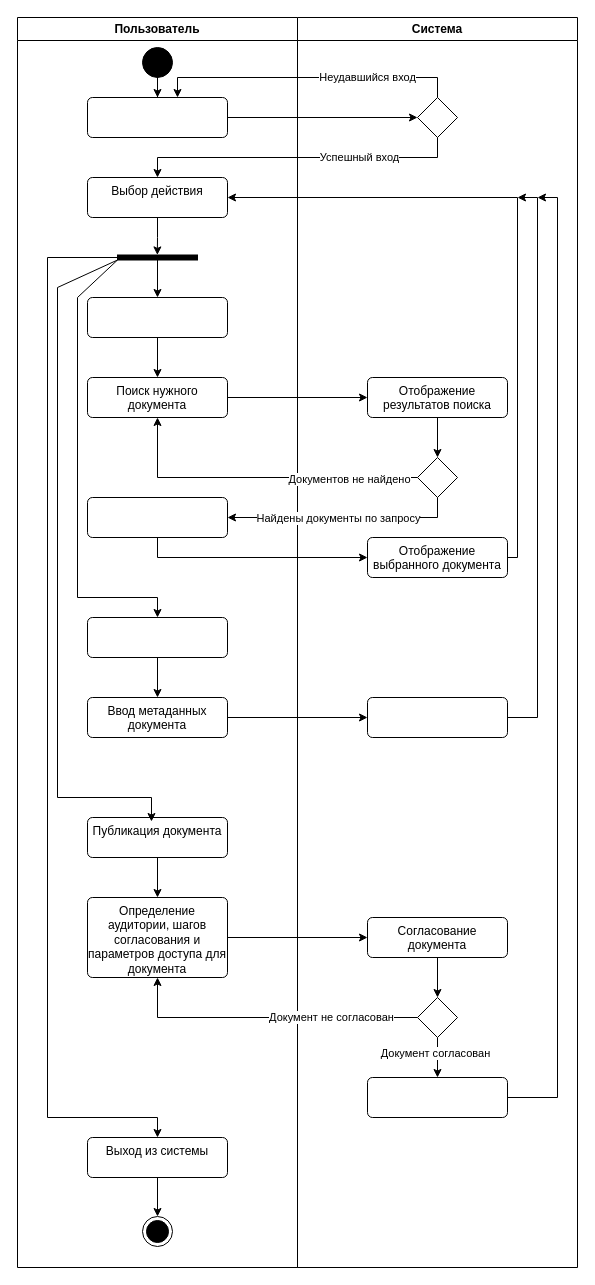
Image size: 595x1285. Some labels were removed from this diagram. Here are the shapes that lost their labels. From the top down, the centre of each, then its label:
At (157,117): "Вход в систему".
At (157,317): "Просмотр документа".
At (157,517): "Выбор документа из списка".
At (157,637): "Создание документа".
At (437,717): "Сохранение документа как черновика".
At (437,1097): "Публикация документа в общий доступ".
